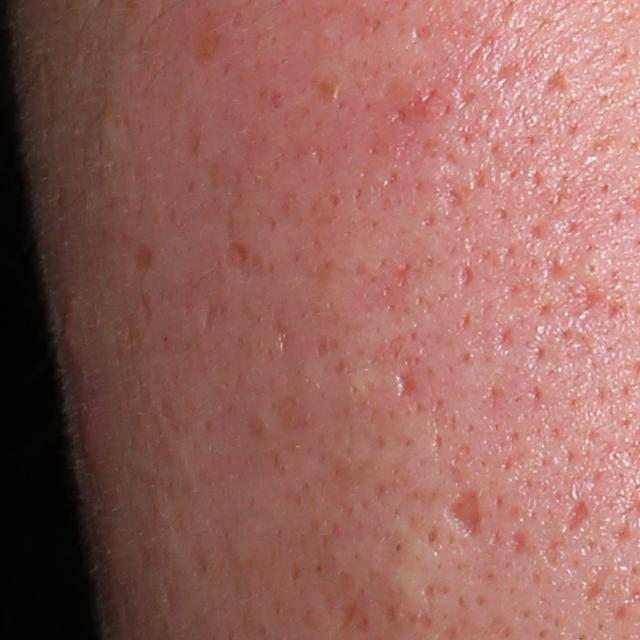atrophic_scar: (446, 486, 484, 539), (127, 239, 155, 287), (539, 66, 576, 101), (561, 497, 592, 538), (271, 318, 293, 353), (395, 367, 417, 399), (201, 298, 219, 333), (453, 263, 474, 292), (493, 325, 512, 356)
comedo: (580, 257, 602, 278)
papule: (74, 412, 102, 465)
